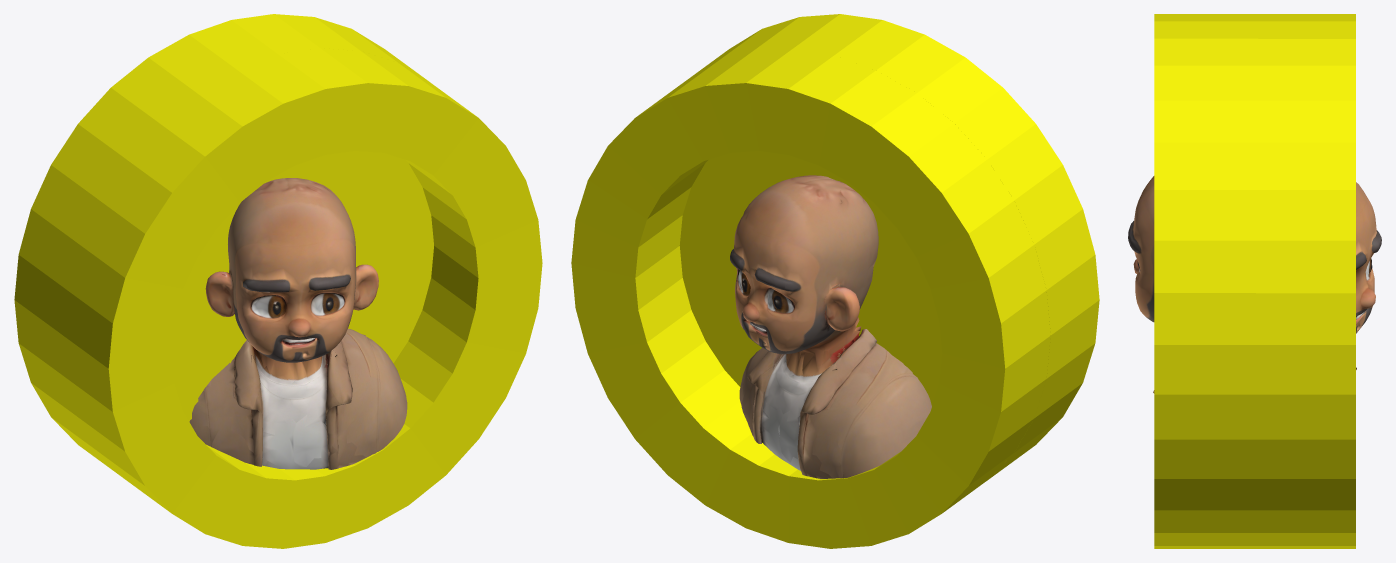
The model's file is bust_ted3.glb.
3 renders of one model, left to right at view 1: azimuth 30°, elevation 25°; view 2: azimuth 150°, elevation 25°; view 3: azimuth 270°, elevation 25°, orthographic. The views are drawn at different scales.
Parts seen in each view (by area): view 1: Cylinder, Mesh_0, Cylinder.001; view 2: Cylinder.001, Mesh_0.001, Cylinder; view 3: Cylinder, Cylinder.001, Mesh_0, Mesh_0.001.
Boxes of the visible parts, <box> form: Cylinder: <box>60,48,542,548</box>; Mesh_0: <box>189,178,407,469</box>; Cylinder.001: <box>14,14,429,476</box>; Cylinder.001: <box>571,49,1050,548</box>; Mesh_0.001: <box>730,175,931,478</box>; Cylinder: <box>683,14,1099,480</box>; Cylinder: <box>1154,14,1258,548</box>; Cylinder.001: <box>1256,14,1355,548</box>; Mesh_0: <box>1128,176,1154,393</box>; Mesh_0.001: <box>1356,182,1381,369</box>.
Size of the model in its own units: 3.35 by 3.35 by 1.59.
Materials: 2 (1 with a texture image).
